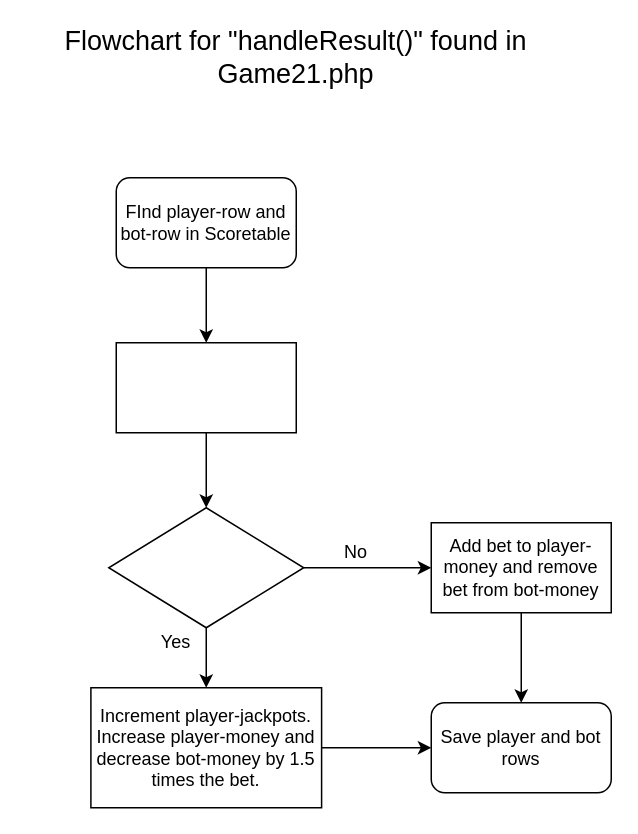
The diagram is 638 pixels wide and 834 high, and some of its shapes have lost their labels. The shapes that lost their labels are listed below. From the top down, each one's centre as x and y in pixels, then its label:
At [205,387]: "Increment player win column".
At [205,567]: "Is it a blackjack?".
